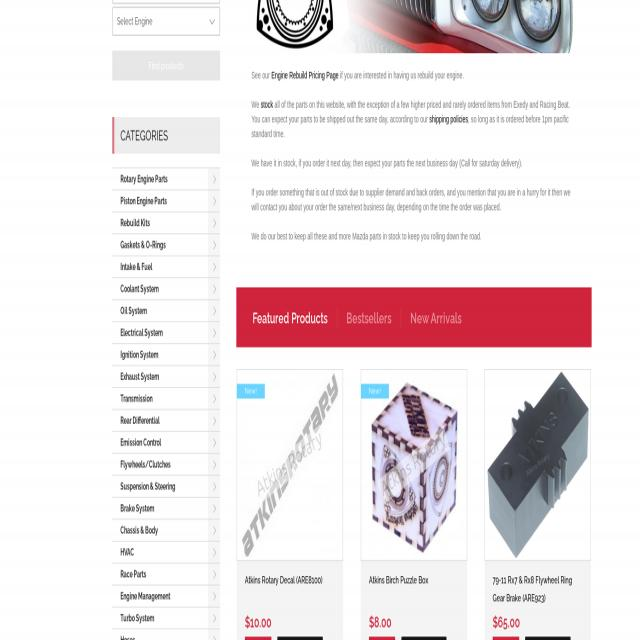button: (484, 369, 590, 562), (361, 369, 467, 562), (237, 370, 343, 561), (240, 292, 334, 341), (338, 292, 401, 342), (405, 292, 469, 341), (112, 51, 220, 80), (112, 321, 220, 344), (112, 343, 220, 366), (112, 365, 220, 388), (112, 431, 220, 454), (112, 453, 220, 476), (112, 475, 220, 498), (112, 497, 220, 520), (112, 563, 220, 586), (112, 585, 220, 608), (112, 168, 220, 190), (112, 190, 220, 212), (112, 212, 220, 234), (112, 234, 220, 256), (112, 256, 220, 278), (112, 278, 220, 300), (112, 300, 220, 322), (112, 388, 220, 410), (112, 410, 220, 432), (112, 519, 220, 541), (112, 541, 220, 563), (112, 608, 220, 629), (112, 629, 219, 640), (401, 634, 446, 640), (525, 635, 571, 640), (277, 635, 323, 640), (491, 634, 519, 640), (244, 634, 271, 640), (368, 635, 396, 640)
field: (112, 7, 220, 36)
